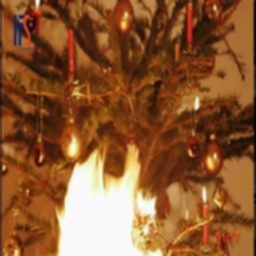fire: (45, 146, 168, 256)
